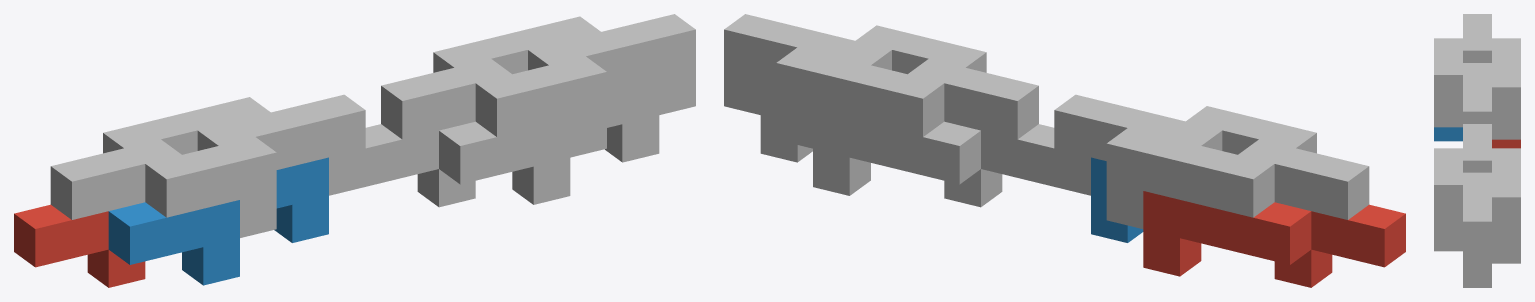
The model's file is tiling.obj.
3 views of the same model, side by side, from view 1: azimuth 30°, elevation 25°; view 2: azimuth 150°, elevation 25°; view 3: azimuth 270°, elevation 25° (orthographic). The views are drawn at different scales.
Visible parts, largest first — view 1: copy_1_domain_4, copy_1_domain_8, copy_1_domain_6, copy_1_domain_2, copy_1_domain_3, copy_1_domain_7, copy_1_domain_1, copy_1_domain_5; view 2: copy_1_domain_3, copy_1_domain_7, copy_1_domain_1, copy_1_domain_5, copy_1_domain_4, copy_1_domain_8, copy_1_domain_6, copy_1_domain_2; view 3: copy_1_domain_8, copy_1_domain_3, copy_1_domain_4, copy_1_domain_7, copy_1_domain_6, copy_1_domain_2, copy_1_domain_5, copy_1_domain_1.
Boxes of the visible parts, <box> form: copy_1_domain_4: <box>145,94,365,237</box>; copy_1_domain_8: <box>475,14,695,157</box>; copy_1_domain_6: <box>439,77,659,204</box>; copy_1_domain_2: <box>108,157,328,285</box>; copy_1_domain_3: <box>50,97,270,219</box>; copy_1_domain_7: <box>381,16,600,139</box>; copy_1_domain_1: <box>14,204,145,287</box>; copy_1_domain_5: <box>365,124,475,207</box>; copy_1_domain_3: <box>1106,128,1369,228</box>; copy_1_domain_7: <box>776,47,1038,148</box>; copy_1_domain_1: <box>1143,191,1405,287</box>; copy_1_domain_5: <box>813,110,1054,207</box>; copy_1_domain_4: <box>1054,94,1316,195</box>; copy_1_domain_8: <box>724,14,986,114</box>; copy_1_domain_6: <box>760,77,812,162</box>; copy_1_domain_2: <box>1091,157,1143,242</box>; copy_1_domain_8: <box>1434,148,1491,273</box>; copy_1_domain_3: <box>1463,14,1520,139</box>; copy_1_domain_4: <box>1434,38,1491,127</box>; copy_1_domain_7: <box>1463,124,1520,249</box>; copy_1_domain_6: <box>1434,237,1491,287</box>; copy_1_domain_2: <box>1434,127,1462,141</box>; copy_1_domain_5: <box>1492,249,1520,263</box>; copy_1_domain_1: <box>1492,139,1520,148</box>.
Size of the model in its own units: 18 by 3 by 3.
